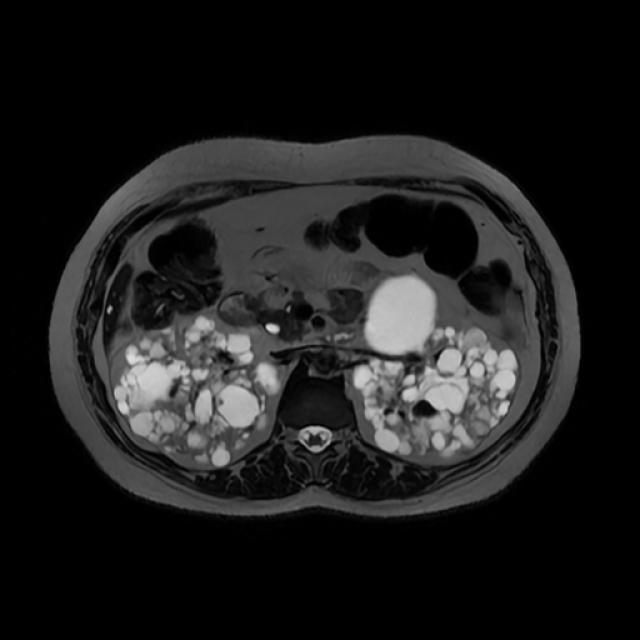sag: (114, 319, 282, 467)
sol: (357, 278, 516, 455)
